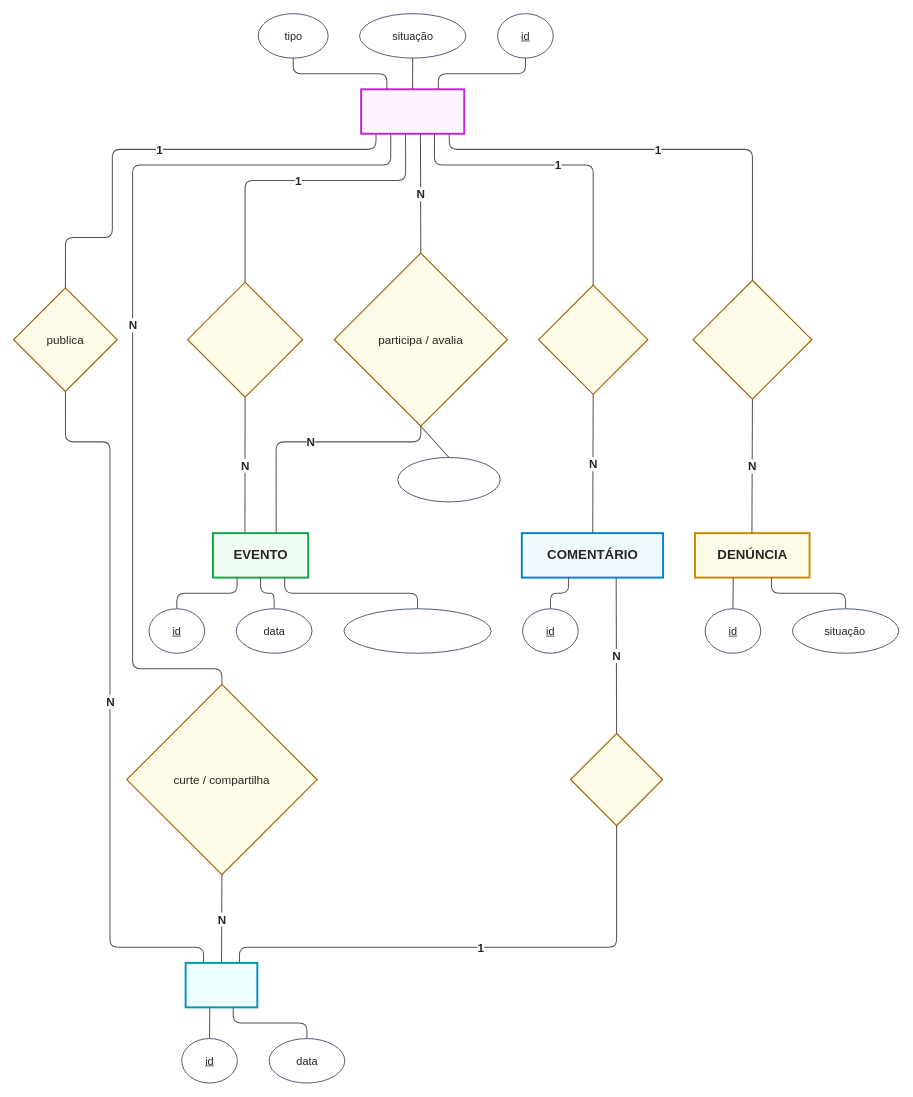
This 913x1097 diagram has some shape labels left out. Each missing label, with the box of its shape:
denuncia: (692, 279, 812, 399)
escreve: (538, 284, 648, 395)
estrelas: (397, 457, 500, 502)
horário de fim: (343, 608, 491, 653)
organiza: (187, 281, 303, 397)
POST: (184, 962, 258, 1008)
sobre: (570, 733, 663, 826)
USUÁRIO: (360, 88, 465, 134)
